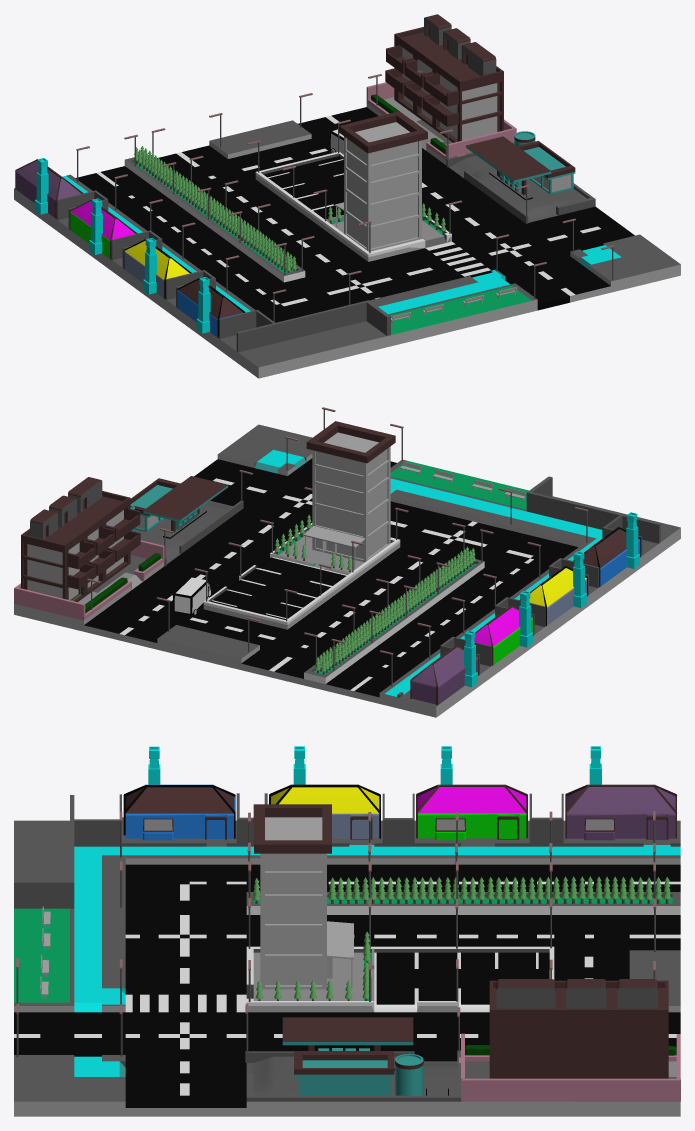
File: CityTest1.fbx
3 views of the same model, one above another, from view 1: azimuth 30°, elevation 25°; view 2: azimuth 150°, elevation 25°; view 3: azimuth 270°, elevation 25° (orthographic). The views are drawn at different scales.
Visible parts, largest first — view 1: pCube1, pCube18, pCube2, pCube10, pCube60, pCube70, pCube68, pCube7, pCube66, pCube20, pCube64, pCube69 (+2 smaller); view 2: pCube1, pCube18, pCube2, pCube70, pCube10, pCube68, pCube66, pCube60, pCube19, pCube7, pCylinder279, pCube3 (+4 smaller); view 3: pCube1, pCube18, pCube2, pCube60, pCube70, pCube68, pCube21, pCube7, pCube10, pCube66, pCylinder7, pCube3.
Boxes of the visible parts, left/top/right/bottom form: pCube1: left=14, top=97, right=680, bottom=378; pCube18: left=385, top=14, right=503, bottom=142; pCube2: left=339, top=111, right=427, bottom=251; pCube10: left=466, top=136, right=551, bottom=182; pCube60: left=177, top=278, right=245, bottom=337; pCube70: left=15, top=159, right=83, bottom=219; pCube68: left=69, top=199, right=137, bottom=259; pCube7: left=517, top=141, right=575, bottom=194; pCube66: left=123, top=239, right=191, bottom=298; pCube20: left=445, top=128, right=514, bottom=160; pCube64: left=196, top=277, right=210, bottom=333; pCube69: left=34, top=158, right=48, bottom=214; pCube1: left=14, top=424, right=680, bottom=717; pCube18: left=21, top=477, right=140, bottom=601; pCube2: left=306, top=421, right=395, bottom=562; pCube70: left=410, top=645, right=478, bottom=705; pCube10: left=143, top=476, right=228, bottom=522; pCube68: left=474, top=605, right=533, bottom=665; pCube66: left=519, top=566, right=587, bottom=625; pCube60: left=573, top=527, right=640, bottom=586; pCube19: left=16, top=587, right=85, bottom=620; pCube7: left=130, top=478, right=180, bottom=531; pCylinder279: left=173, top=577, right=210, bottom=615; pCube3: left=303, top=526, right=365, bottom=548; pCube1: left=14, top=793, right=680, bottom=1116; pCube18: left=489, top=979, right=668, bottom=1078; pCube2: left=253, top=804, right=331, bottom=989; pCube60: left=123, top=784, right=235, bottom=840; pCube70: left=565, top=784, right=677, bottom=840; pCube68: left=416, top=784, right=527, bottom=840; pCube21: left=462, top=1078, right=680, bottom=1101; pCube7: left=294, top=1051, right=394, bottom=1095; pCube10: left=282, top=1017, right=413, bottom=1045; pCube66: left=269, top=784, right=380, bottom=839; pCylinder7: left=395, top=1053, right=423, bottom=1096; pCube3: left=327, top=921, right=353, bottom=959.
Bounding box in the file's own units: 24.39 × 6.61 × 24.02.
